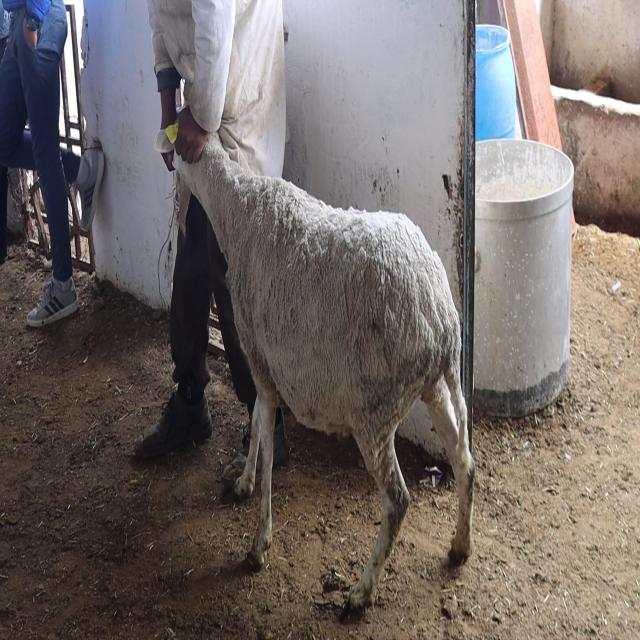Score_5: (175, 135, 475, 613)
